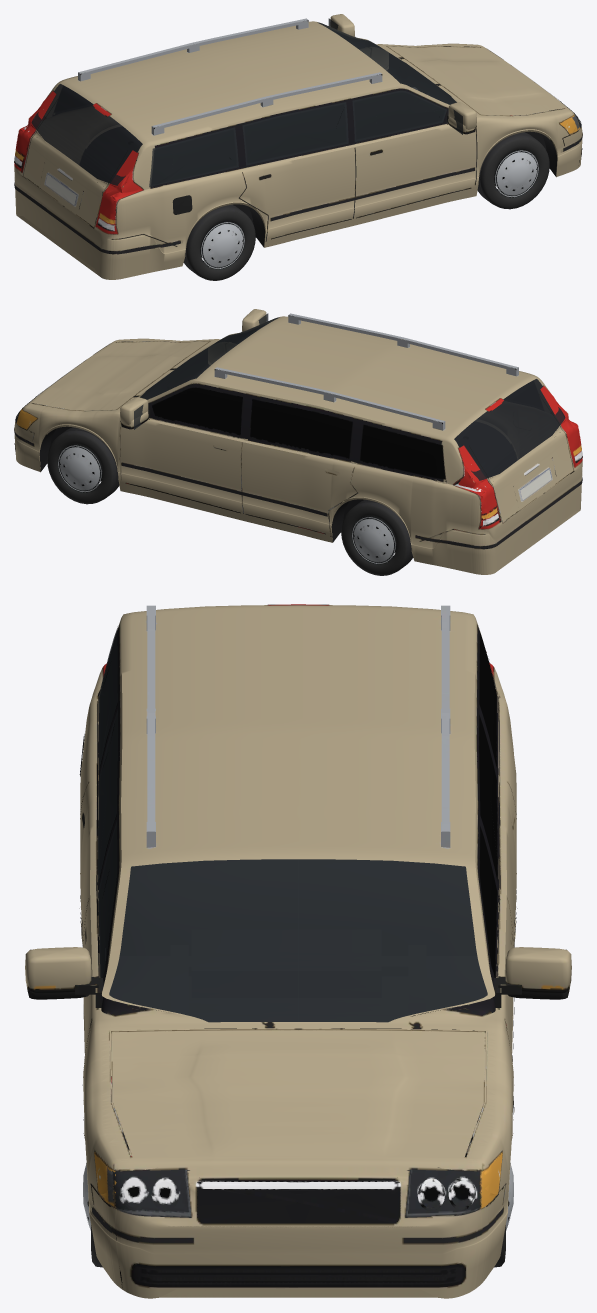
File: wagon_baked.glb
The picture shows the model from 3 angles, top to bottom: view 1: azimuth 30°, elevation 25°; view 2: azimuth 150°, elevation 25°; view 3: azimuth 270°, elevation 25°; orthographic projection. The views are drawn at different scales.
Visible parts, largest first — view 1: body, hood, wheel_fr, wheel_rr, lamp_tail, bay; view 2: body, hood, wheel_fl, wheel_rl, lamp_tail, bay; view 3: body, hood, lamp_head, lamp_amber.
Part boxes in pixels (bbox=[...]): body: bbox=[14, 14, 582, 279]; hood: bbox=[387, 45, 568, 115]; wheel_fr: bbox=[477, 132, 549, 209]; wheel_rr: bbox=[183, 204, 255, 280]; lamp_tail: bbox=[15, 91, 143, 233]; bay: bbox=[389, 53, 455, 104]; body: bbox=[14, 309, 582, 574]; hood: bbox=[28, 340, 209, 410]; wheel_fl: bbox=[47, 427, 119, 504]; wheel_rl: bbox=[341, 499, 413, 575]; lamp_tail: bbox=[453, 386, 581, 528]; bay: bbox=[141, 348, 207, 399]; body: bbox=[25, 605, 571, 1298]; hood: bbox=[110, 1028, 486, 1162]; lamp_head: bbox=[123, 1180, 473, 1208]; lamp_amber: bbox=[94, 1154, 502, 1206].
Bounding box in the file's own units: 4.73 × 1.48 × 2.3.
16 materials, 6 textured.
